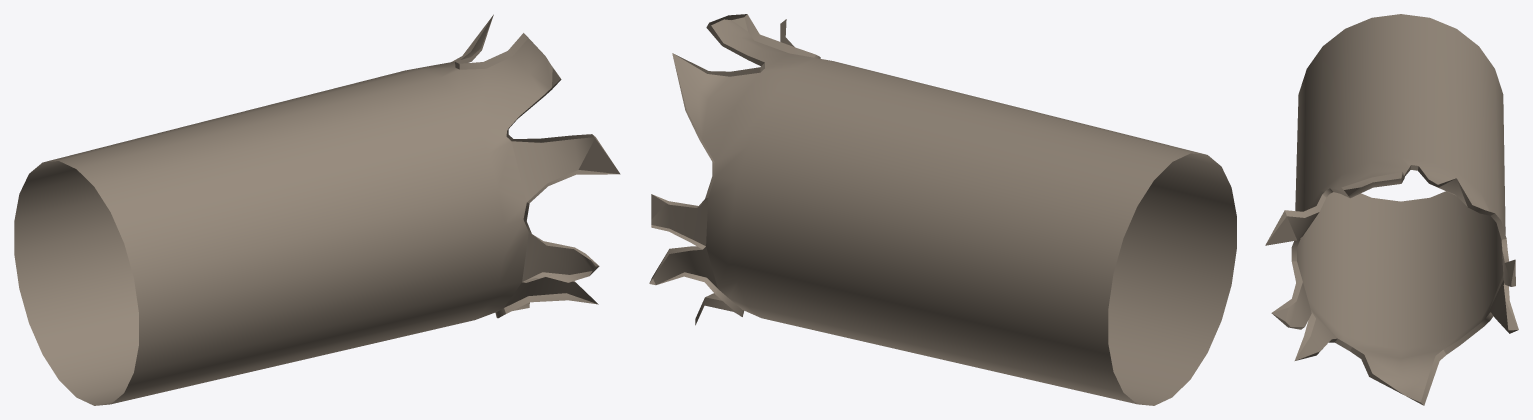
Rendered from mesh_TileRedondoRoto1.fbx.
3 views of the same model, side by side, from view 1: azimuth 30°, elevation 25°; view 2: azimuth 150°, elevation 25°; view 3: azimuth 270°, elevation 25° (orthographic). The views are drawn at different scales.
Parts seen in each view (by area): view 1: TileRedondoRoto1; view 2: TileRedondoRoto1; view 3: TileRedondoRoto1.
Boxes of the visible parts, x1,y1,x2,y2 form: TileRedondoRoto1: (14, 14, 620, 405); TileRedondoRoto1: (649, 14, 1236, 405); TileRedondoRoto1: (1265, 14, 1518, 405).
Bounding box in the file's own units: 3345 × 1973 × 1942.
